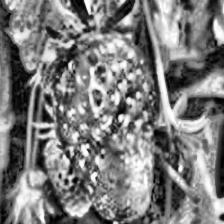Powdery Mildew Fruit: (108, 125, 155, 221)
